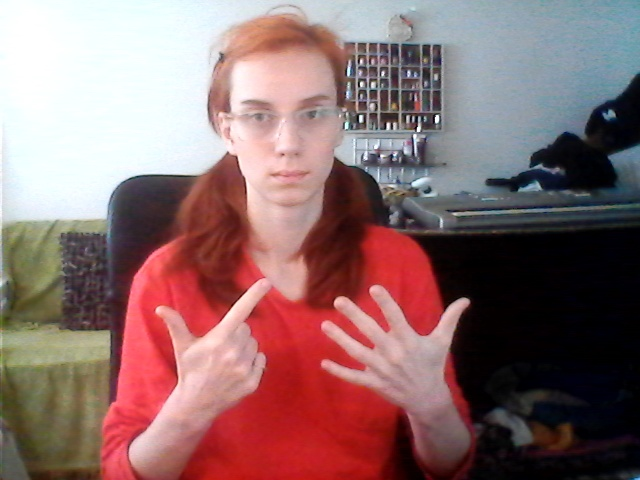sedem: (147, 270, 480, 410)
